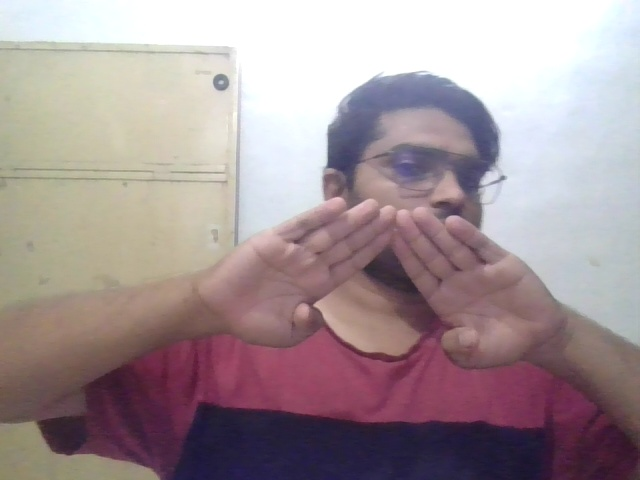thankyou: (215, 193, 543, 367)
